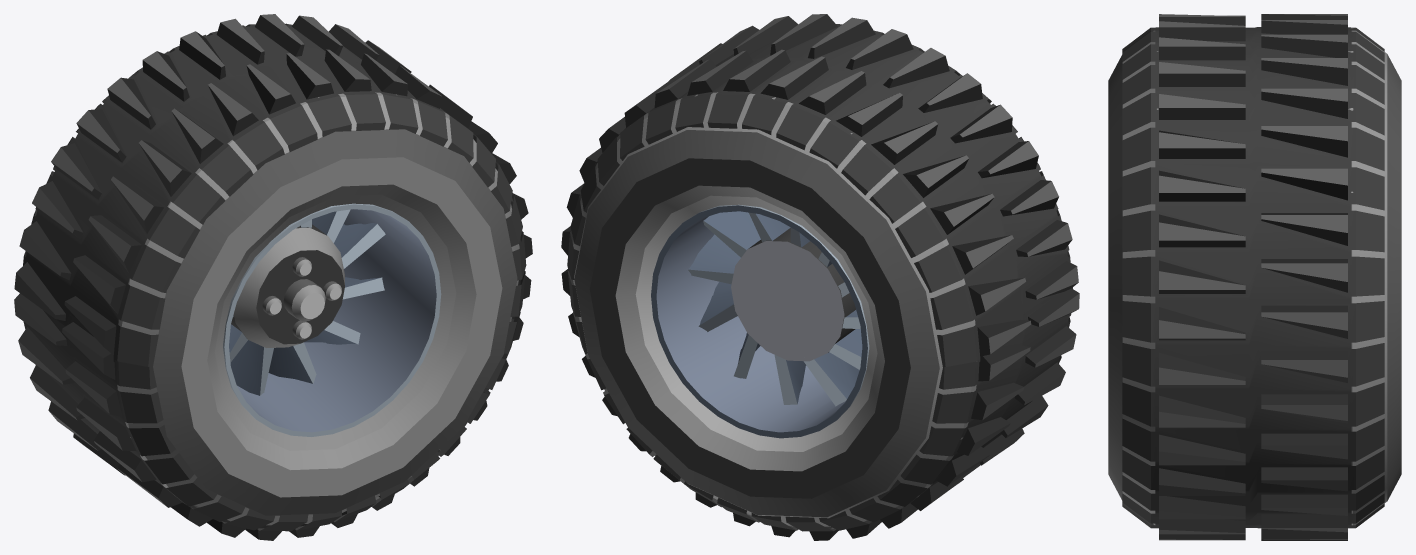
Rendered from wheel_05.fbx.
The picture shows the model from 3 angles, left to right: view 1: azimuth 30°, elevation 25°; view 2: azimuth 150°, elevation 25°; view 3: azimuth 270°, elevation 25°; orthographic projection. The views are drawn at different scales.
Parts seen in each view (by area): view 1: wheel_05; view 2: wheel_05; view 3: wheel_05.
Part boxes in pixels (x1,y1,x2,y2): wheel_05: [14, 14, 532, 540]; wheel_05: [561, 14, 1079, 540]; wheel_05: [1108, 14, 1401, 540].
Bounding box in the file's own units: 108 × 108 × 60.22.
